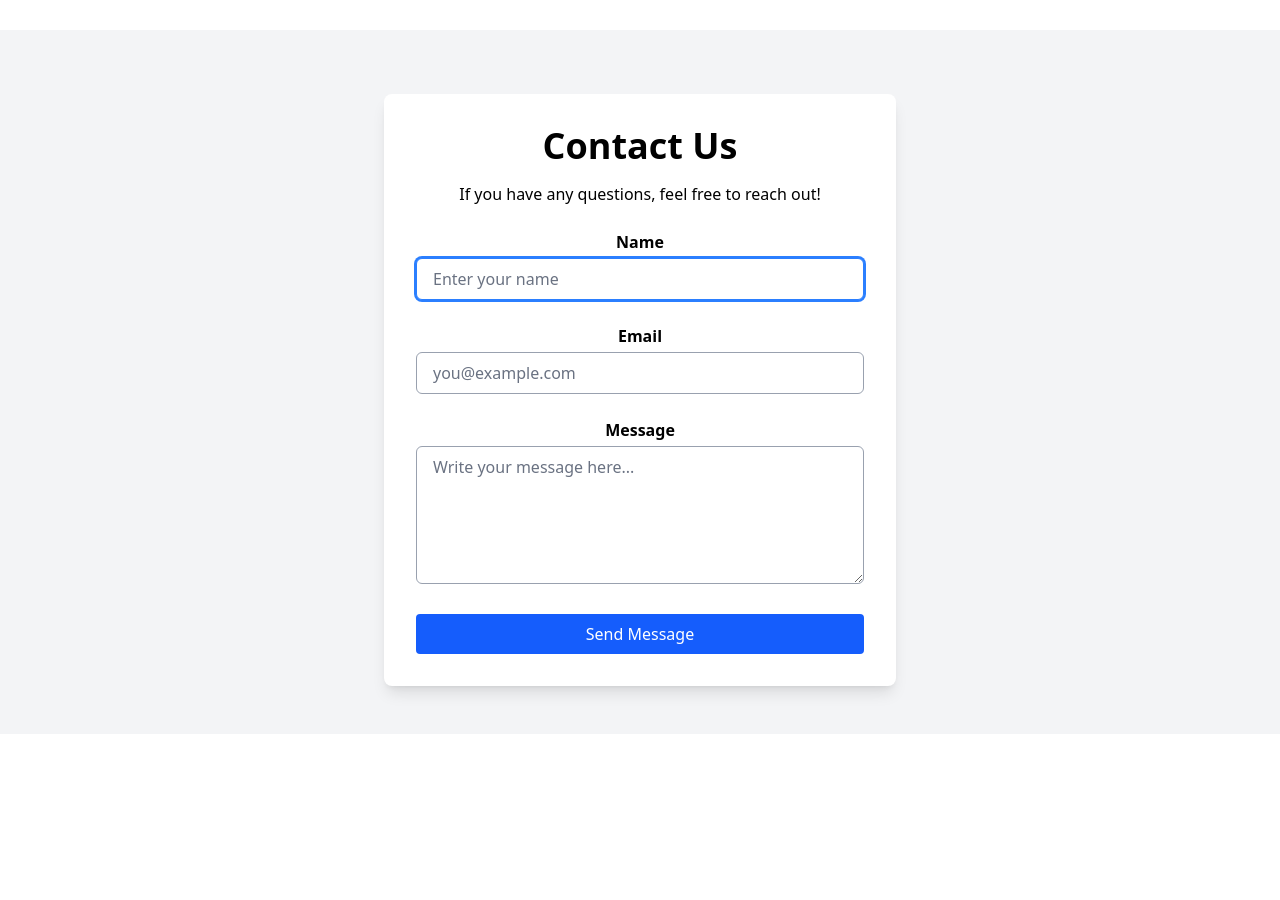
Test: ContactUs Component › shows email invalid error for wrong email format
Type "invalid-email" into the field labelled "Email". click: (640, 373)
box: x1=416 y1=352 x2=864 y2=394
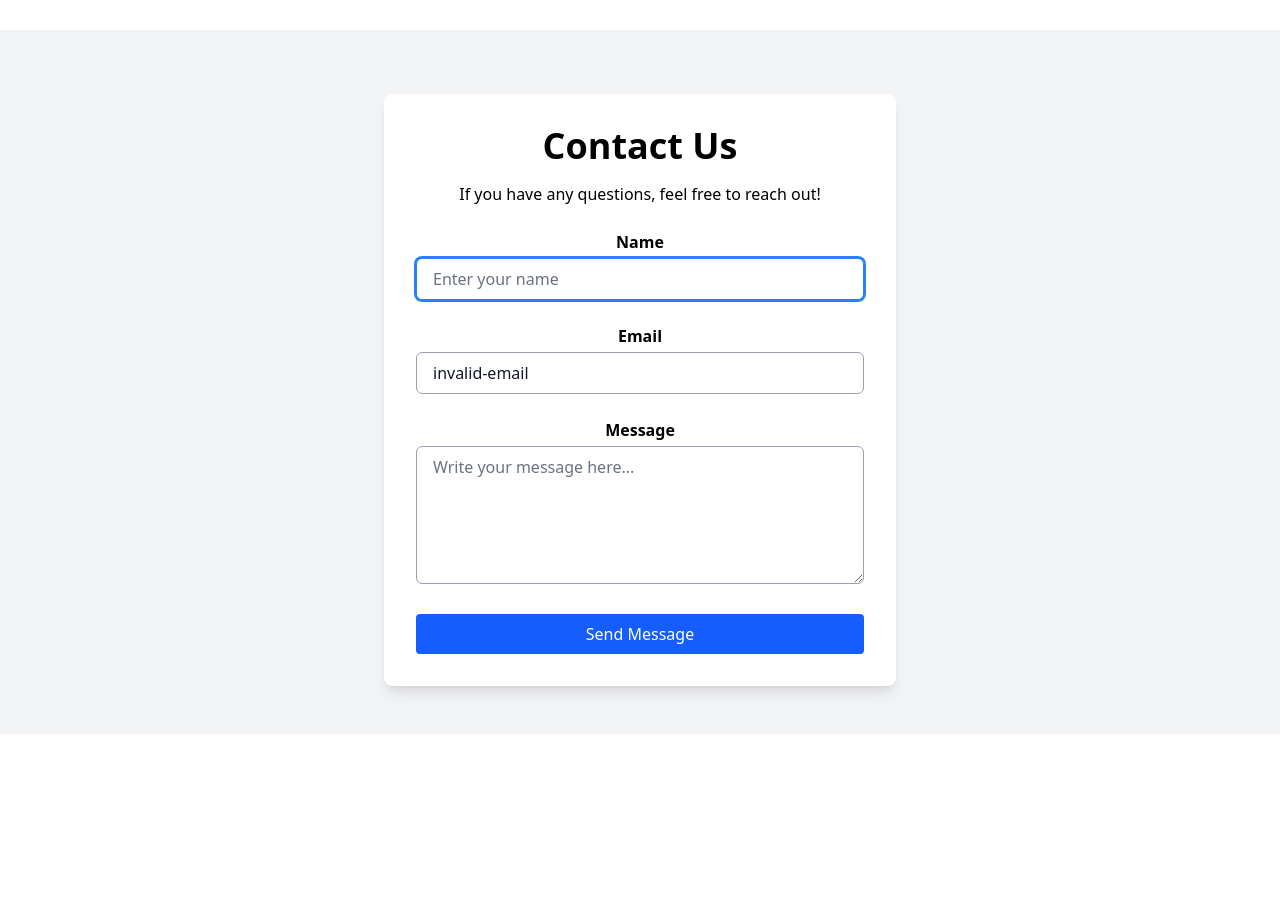
Click the button "Send Message". click: (640, 634)
box: x1=416 y1=614 x2=864 y2=654
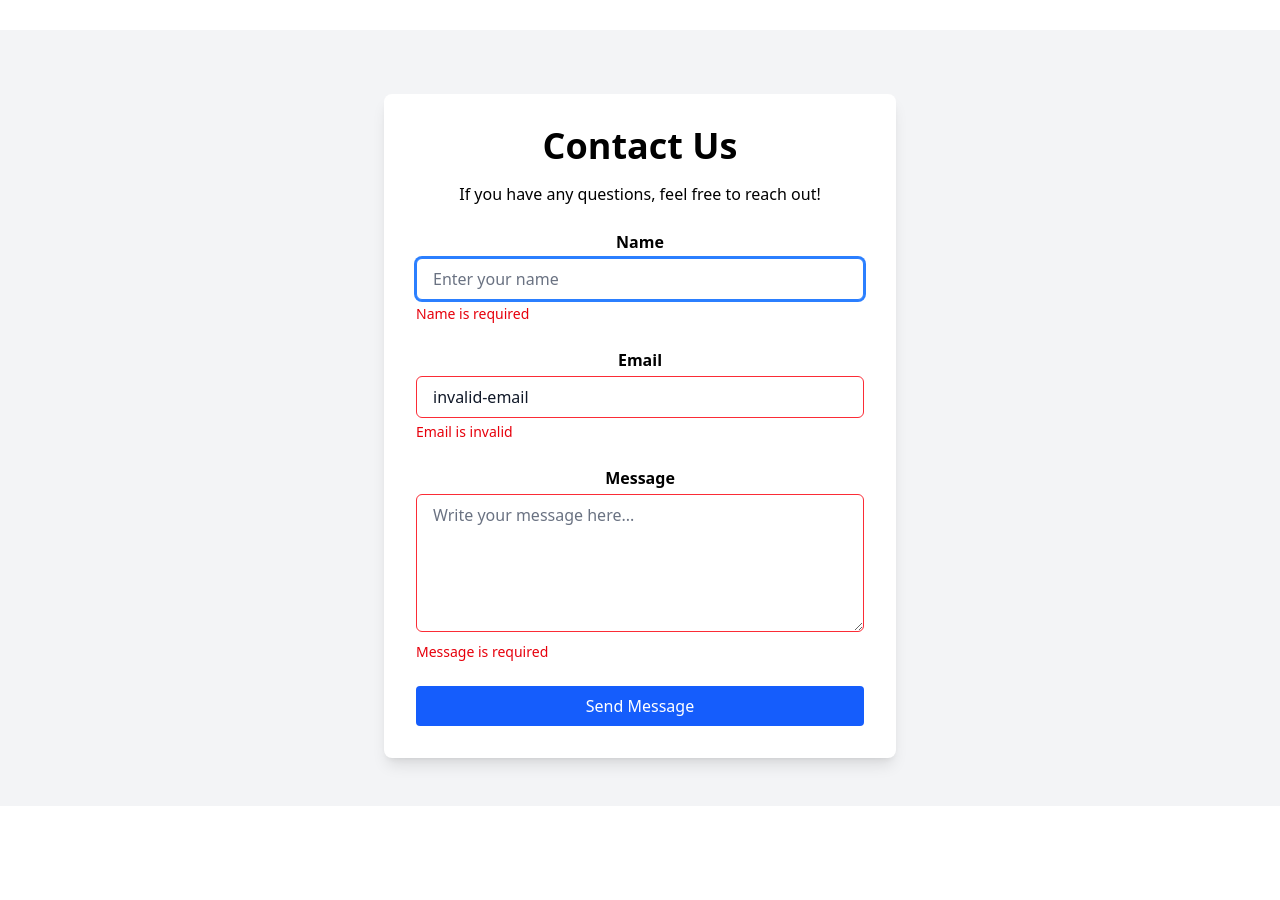
Expected: the text "Email is invalid" is shown, x1=416 y1=422 x2=513 y2=441
